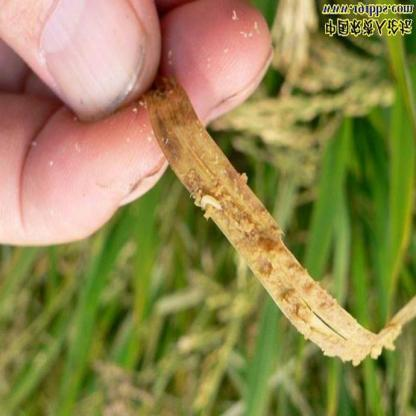whorl-maggot: (198, 188, 224, 221)
